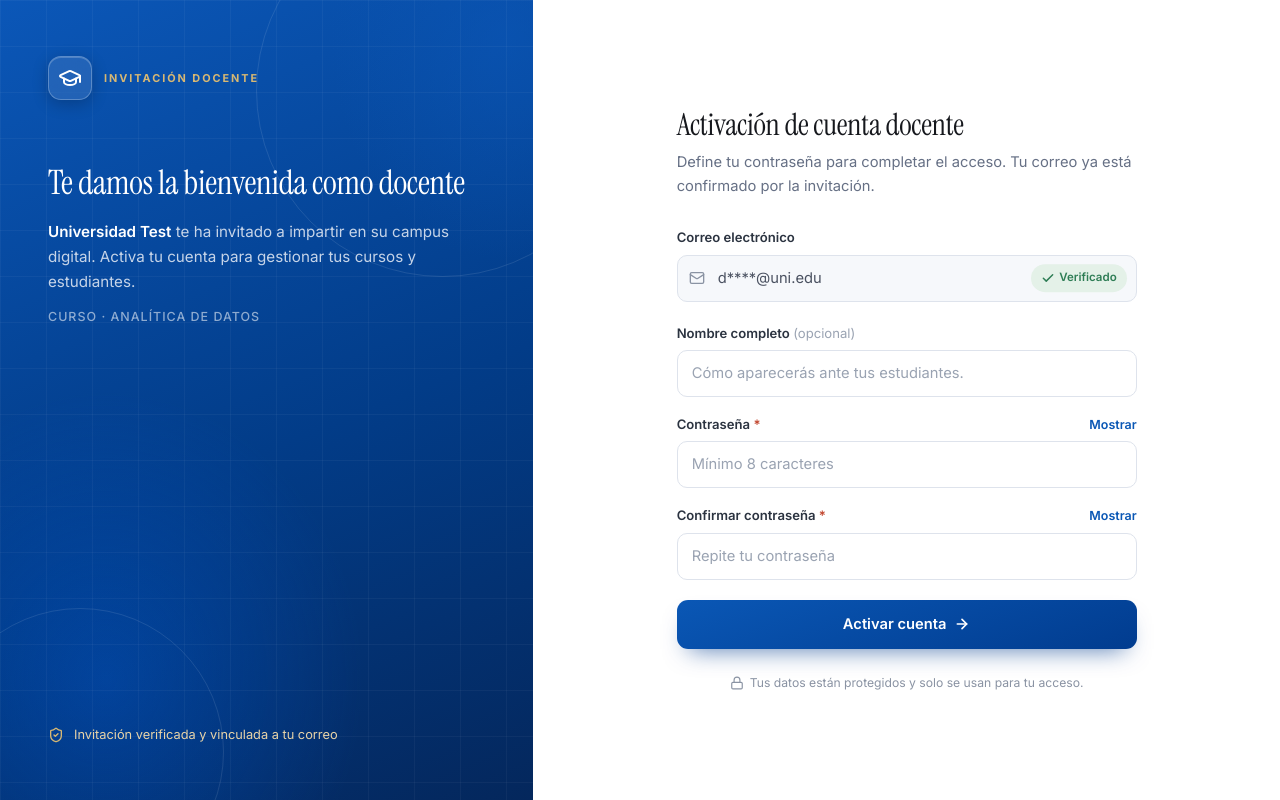
Test: TeacherActivatePage › shows inline error when activatePassword fails with invalid_invite
The width and height of the screenshot is (1280, 800).
Expected: the button "Activar cuenta" is shown, [677,600,1137,649]
Type "Password123!" into the password field labelled "Contraseña *" at {"x": 907, "y": 465}, box [677,441,1137,488]
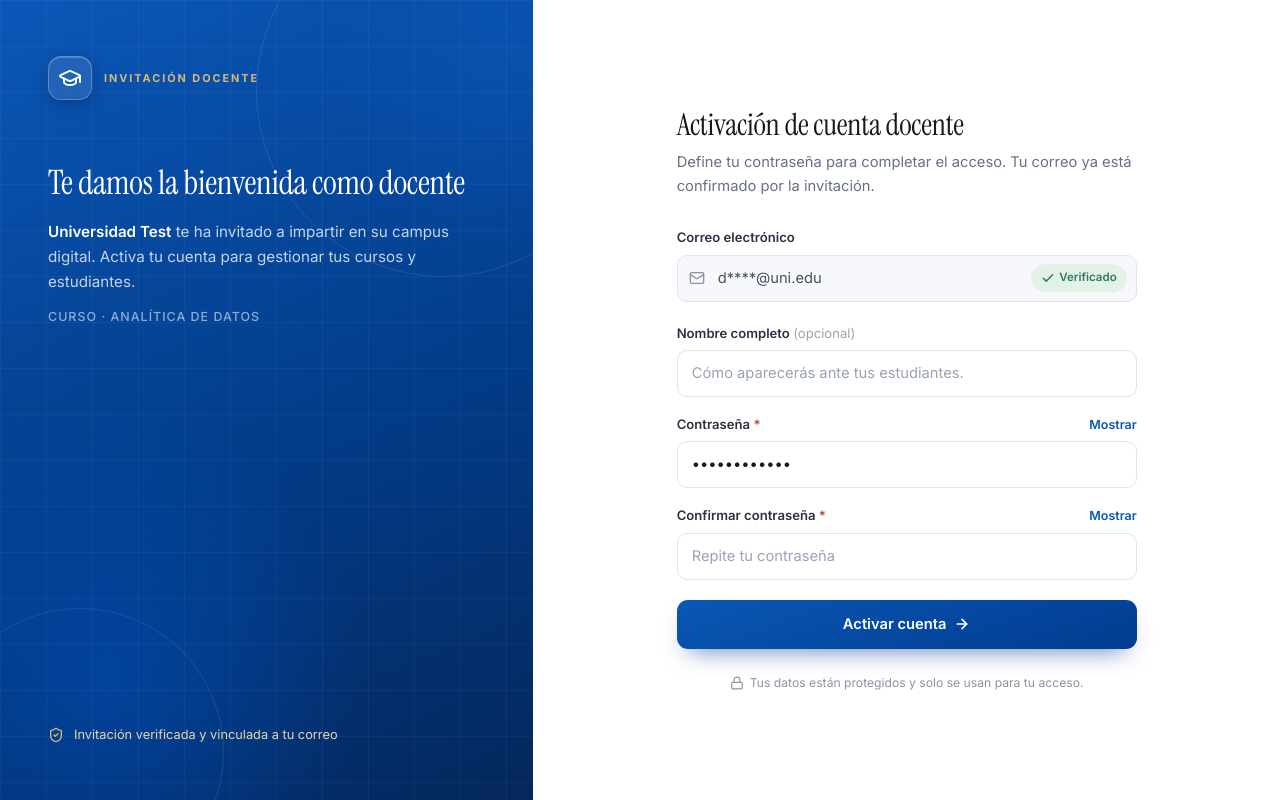
Type "Password123!" into the password field labelled "Confirmar contraseña *" at {"x": 907, "y": 556}, box [677,533,1137,580]
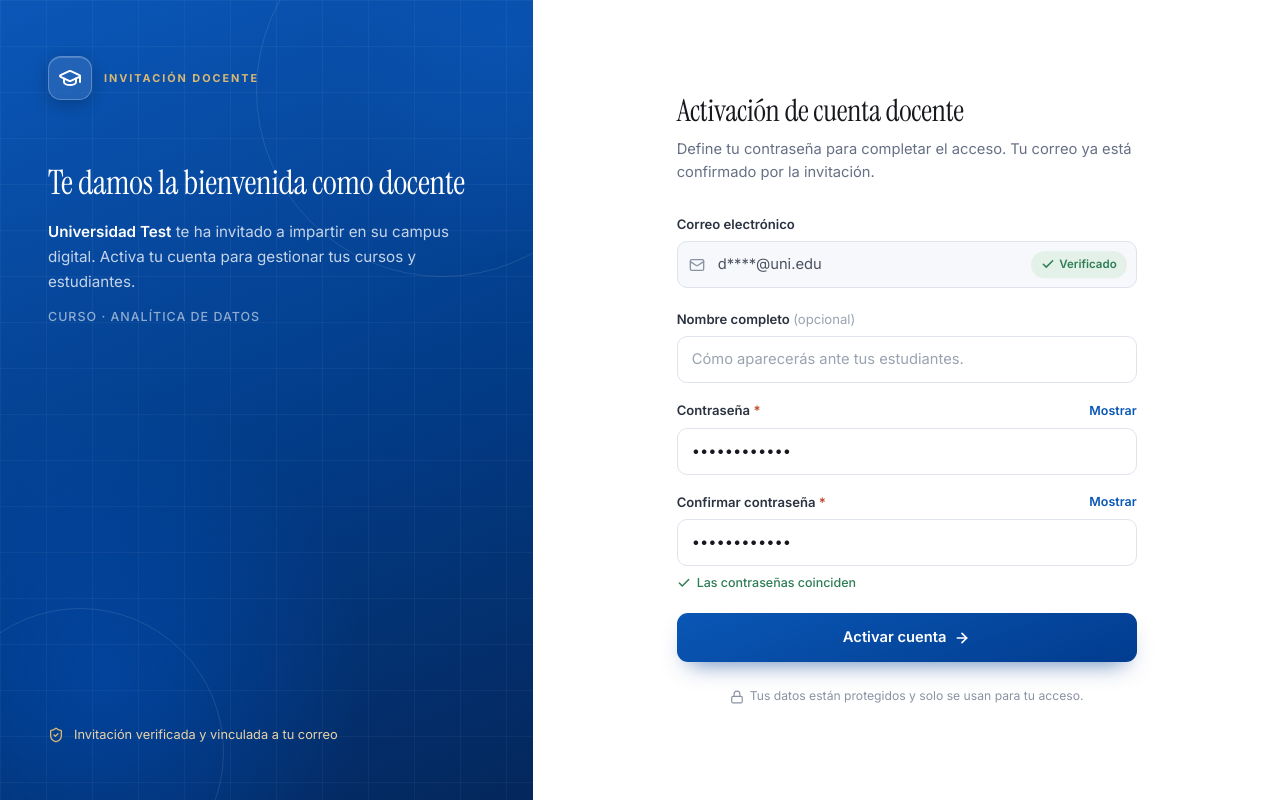
Submit the form, box [677,308,1137,662]
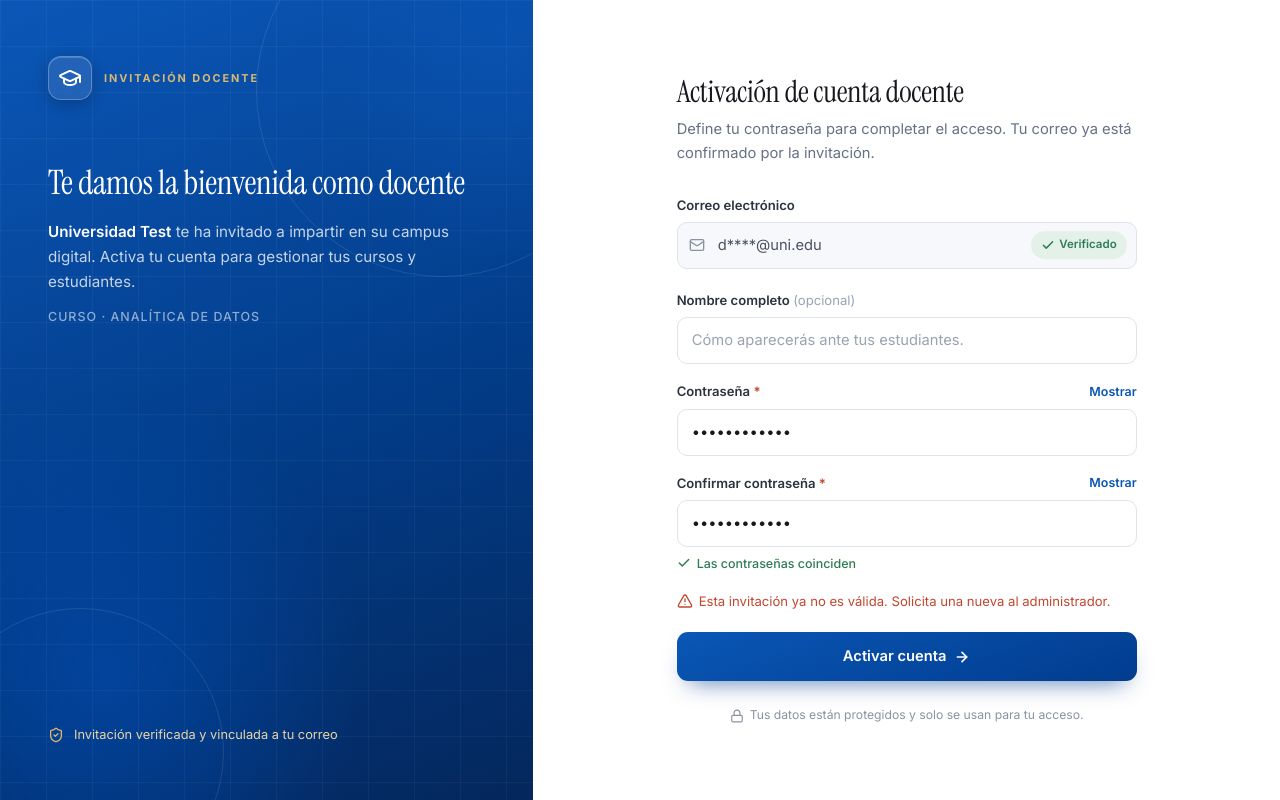
Expected: the button "Activar cuenta" is shown, [677,632,1137,681]
Now the text "ya no es válida" is shown, box [699,593,1110,609]
